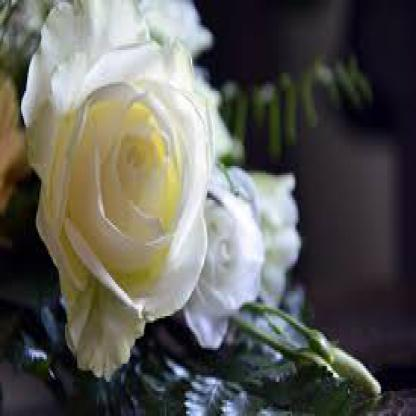Rose-Mawar: (19, 1, 264, 372)
